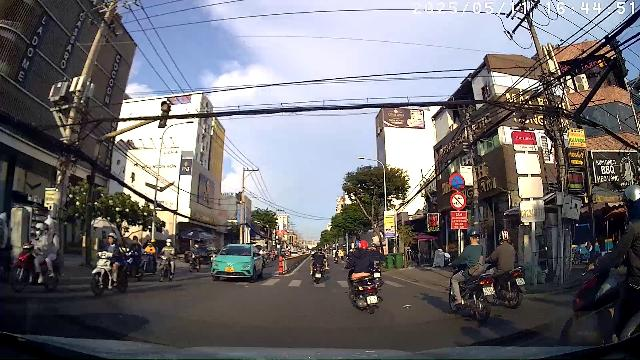131a-cam-do-xe: (449, 173, 465, 191)
